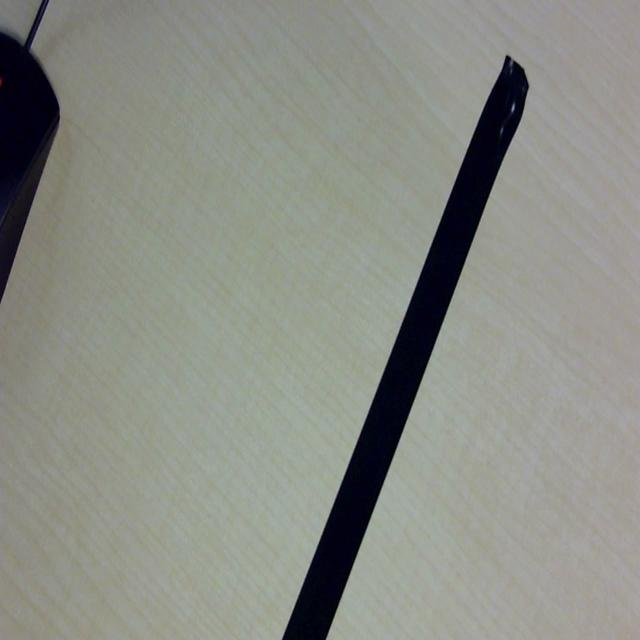tape: (281, 53, 531, 640)
